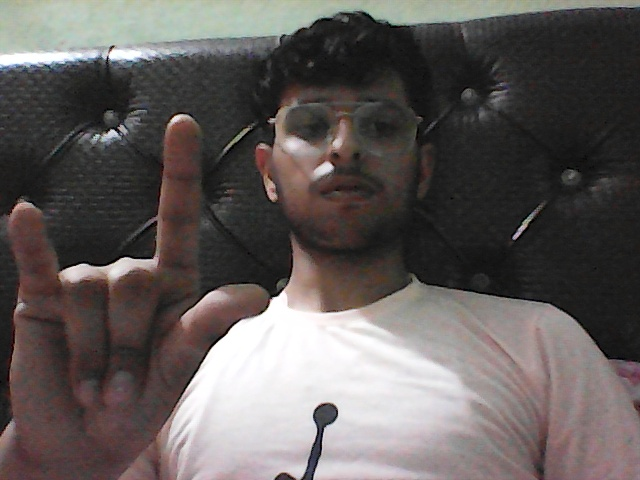iloveyou: (1, 103, 280, 480)
